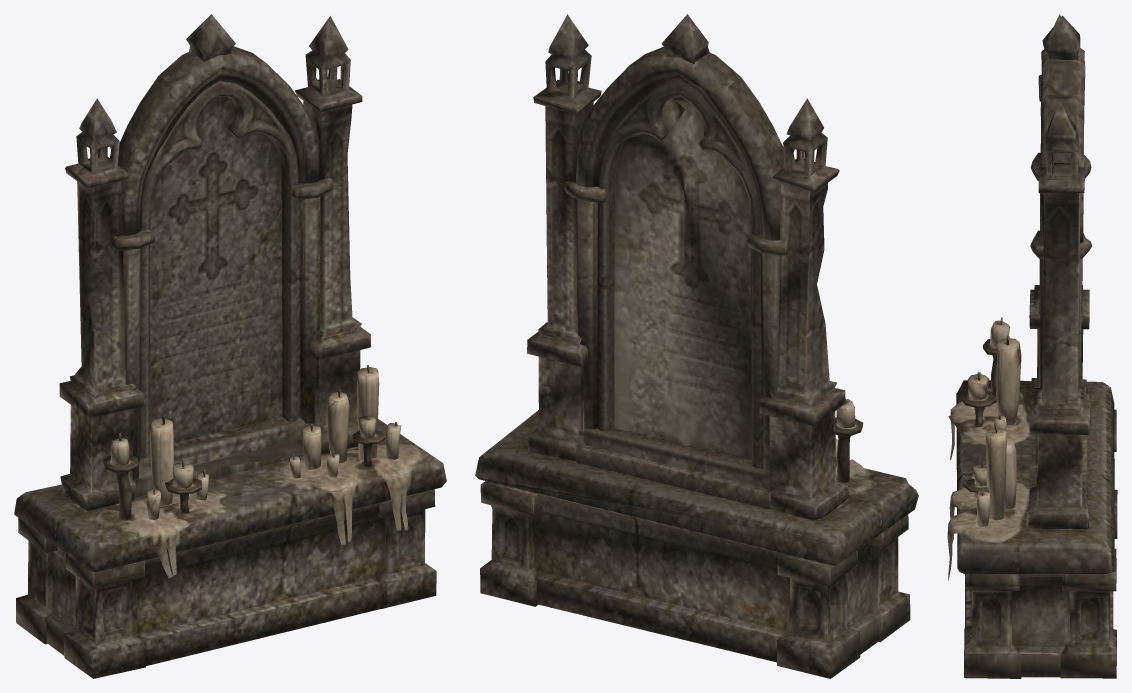
File: h_plaque_candles.glb
3 renders of one model, left to right at view 1: azimuth 30°, elevation 25°; view 2: azimuth 150°, elevation 25°; view 3: azimuth 270°, elevation 25°, orthographic. The views are drawn at different scales.
Visible parts, largest first — view 1: h_plaque_candles; view 2: h_plaque_candles; view 3: h_plaque_candles.
Boxes of the visible parts, left/top/right/bottom form: h_plaque_candles: left=14, top=14, right=446, bottom=678; h_plaque_candles: left=475, top=14, right=918, bottom=678; h_plaque_candles: left=947, top=14, right=1117, bottom=678.
Bounding box in the file's own units: 0.7141 × 1.13 × 0.3007.
1 material, 1 textured.
